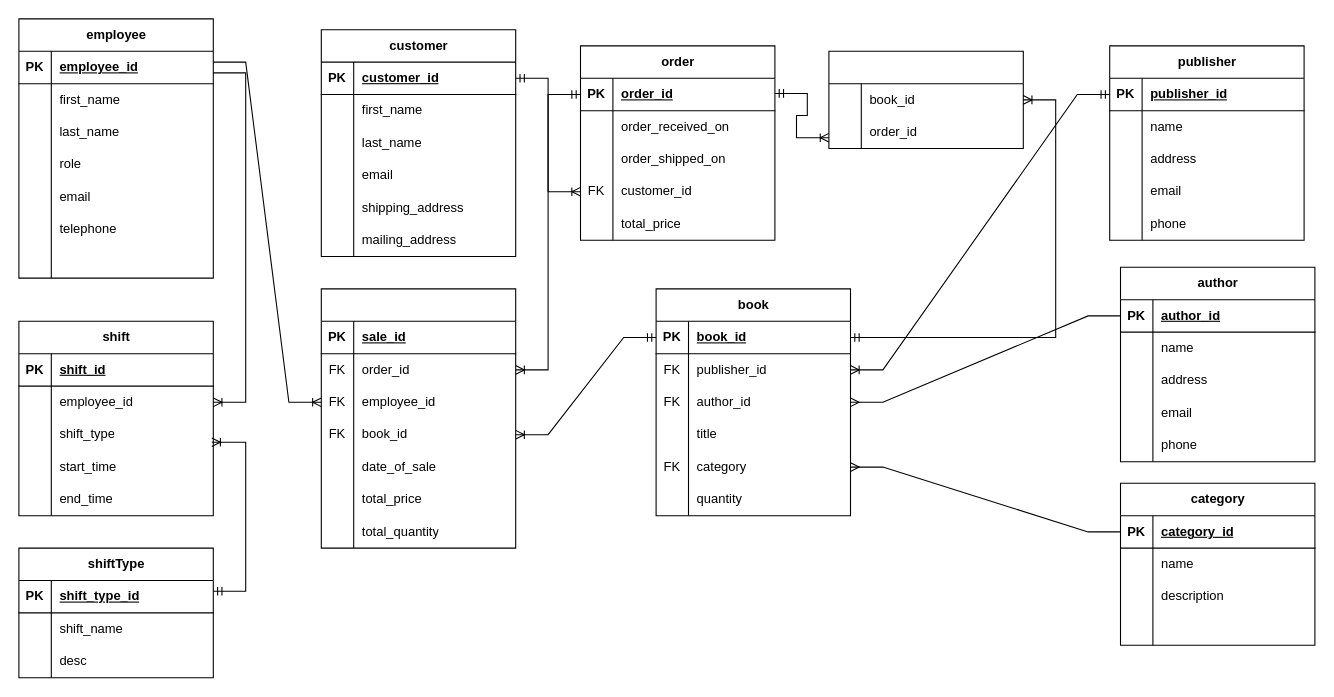
The diagram is 1334 pixels wide and 697 high, and some of its shapes have lost their labels. Here are the shapes that lost their labels. From the top down, the box of each, then its label:
(828, 50, 1023, 148): book_order
(320, 288, 516, 548): sales
